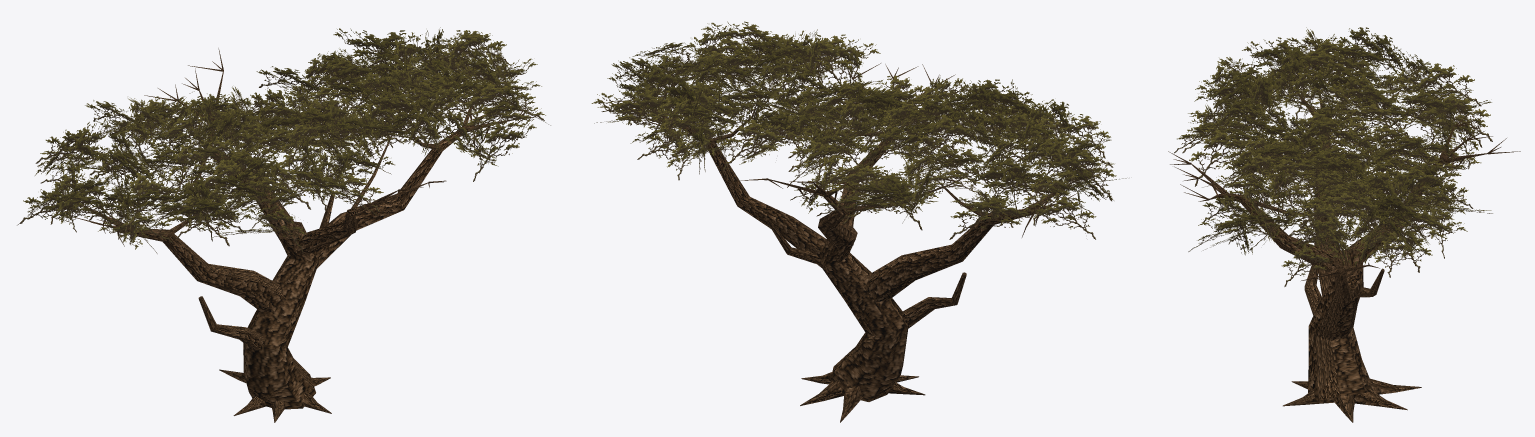
File: Acacia_05_Ancia_Retorcida.glb
3 views of the same model, side by side, from view 1: azimuth 30°, elevation 25°; view 2: azimuth 150°, elevation 25°; view 3: azimuth 270°, elevation 25° (orthographic). The views are drawn at different scales.
Parts seen in each view (by area): view 1: Folhagem fina, Tronco e raizes, Ramos principais, Galhos secos, Ramos secundarios, Galharia terminal; view 2: Folhagem fina, Tronco e raizes, Ramos principais, Galhos secos, Ramos secundarios, Galharia terminal; view 3: Folhagem fina, Tronco e raizes, Ramos principais, Ramos secundarios, Galhos secos, Galharia terminal.
Boxes of the visible parts, <box> form: Folhagem fina: <box>17,27,550,253</box>; Tronco e raizes: <box>219,221,331,422</box>; Ramos principais: <box>118,119,473,311</box>; Galhos secos: <box>103,112,490,350</box>; Ramos secundarios: <box>83,71,514,233</box>; Galharia terminal: <box>74,48,537,232</box>; Folhagem fina: <box>591,21,1126,239</box>; Tronco e raizes: <box>800,222,925,422</box>; Ramos principais: <box>683,124,1026,302</box>; Galhos secos: <box>661,118,1050,328</box>; Ramos secundarios: <box>645,79,1073,216</box>; Galharia terminal: <box>615,59,1098,218</box>; Folhagem fina: <box>1174,27,1492,286</box>; Tronco e raizes: <box>1283,250,1421,422</box>; Ramos principais: <box>1221,136,1446,305</box>; Ramos secundarios: <box>1191,87,1487,277</box>; Galhos secos: <box>1213,107,1463,315</box>; Galharia terminal: <box>1168,71,1520,281</box>.
Bounding box in the file's own units: 11.11 × 6.44 × 6.8.
2 materials, 2 textured.
